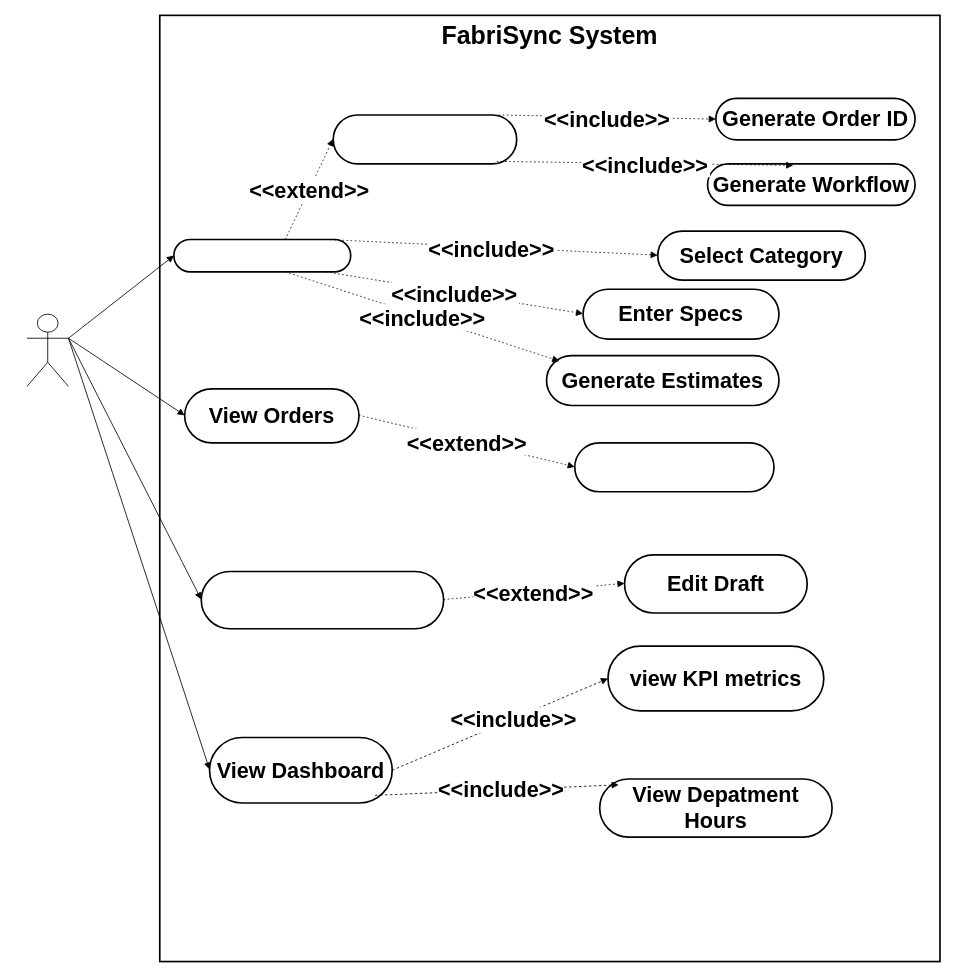
The diagram is 955 pixels wide and 976 high, and some of its shapes have lost their labels. The shapes that lost their labels are listed below. From the top down, each one's centre as x and y in pixels, then its label:
At pixel 424 139: "Finalize Order".
At pixel 262 255: "Create Order".
At pixel 47 349: "Admin".
At pixel 674 467: "View Details".
At pixel 322 599: "Manage Drafts".
